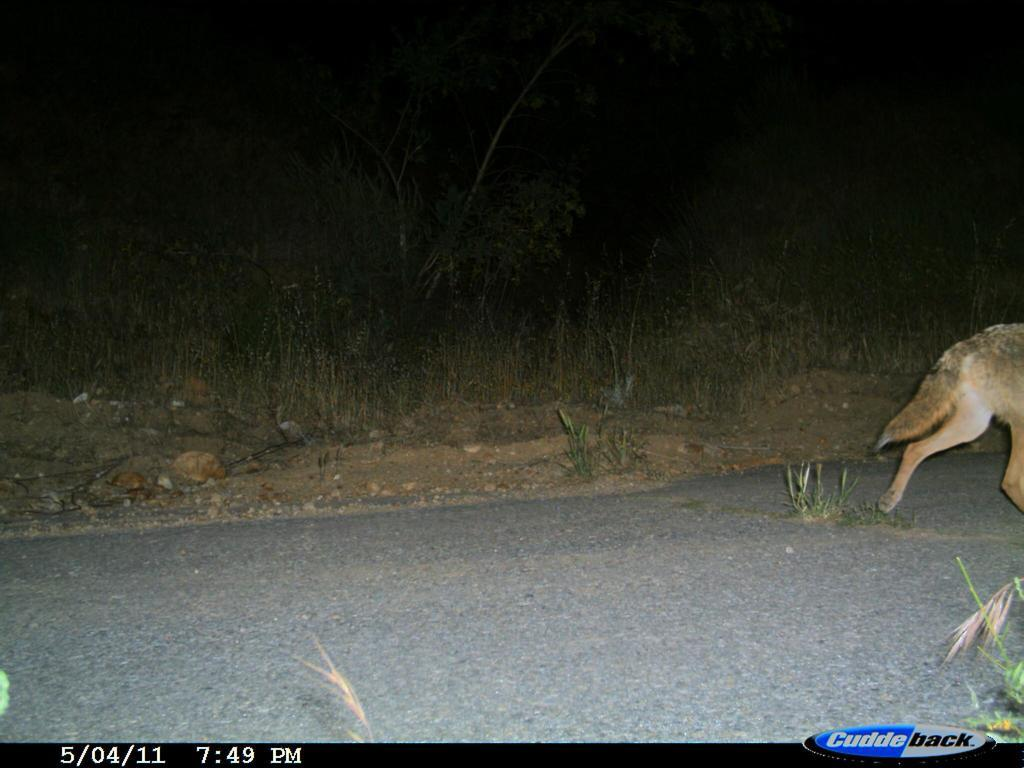coyote: (870, 283, 1019, 560)
